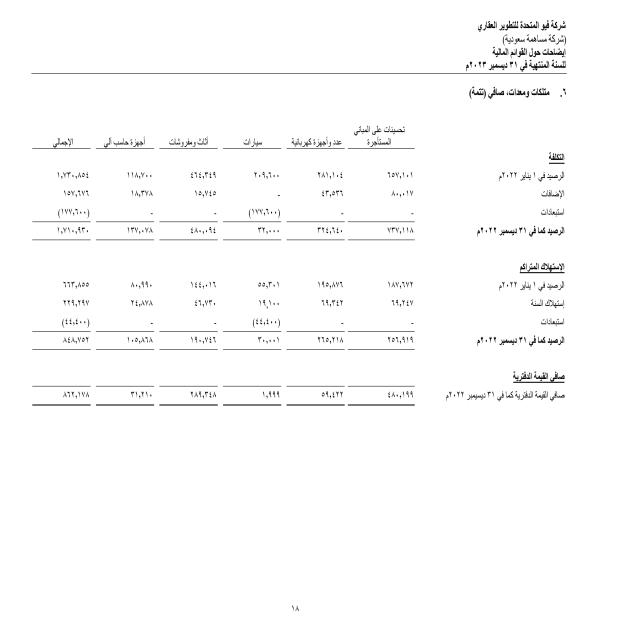notes: (484, 45, 569, 57)
table: (22, 125, 585, 438)
